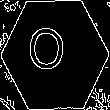O_S: (36, 29, 74, 81)
